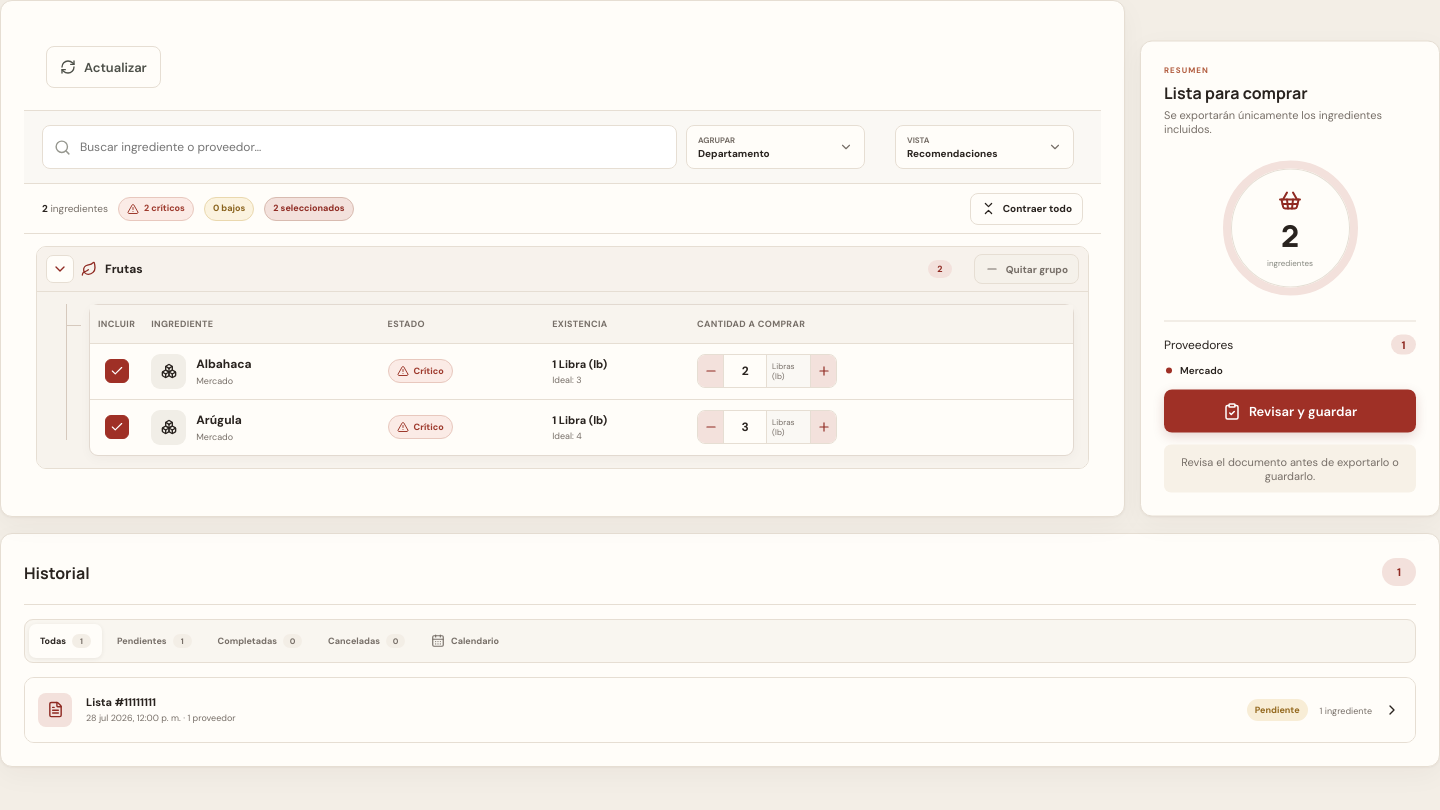
Test: ShoppingPage purchase receipt review › confirms cancellation of a pending order without receiving inventory
Click the button "Lista #11111111": point(55, 710) [25,678,1415,742]
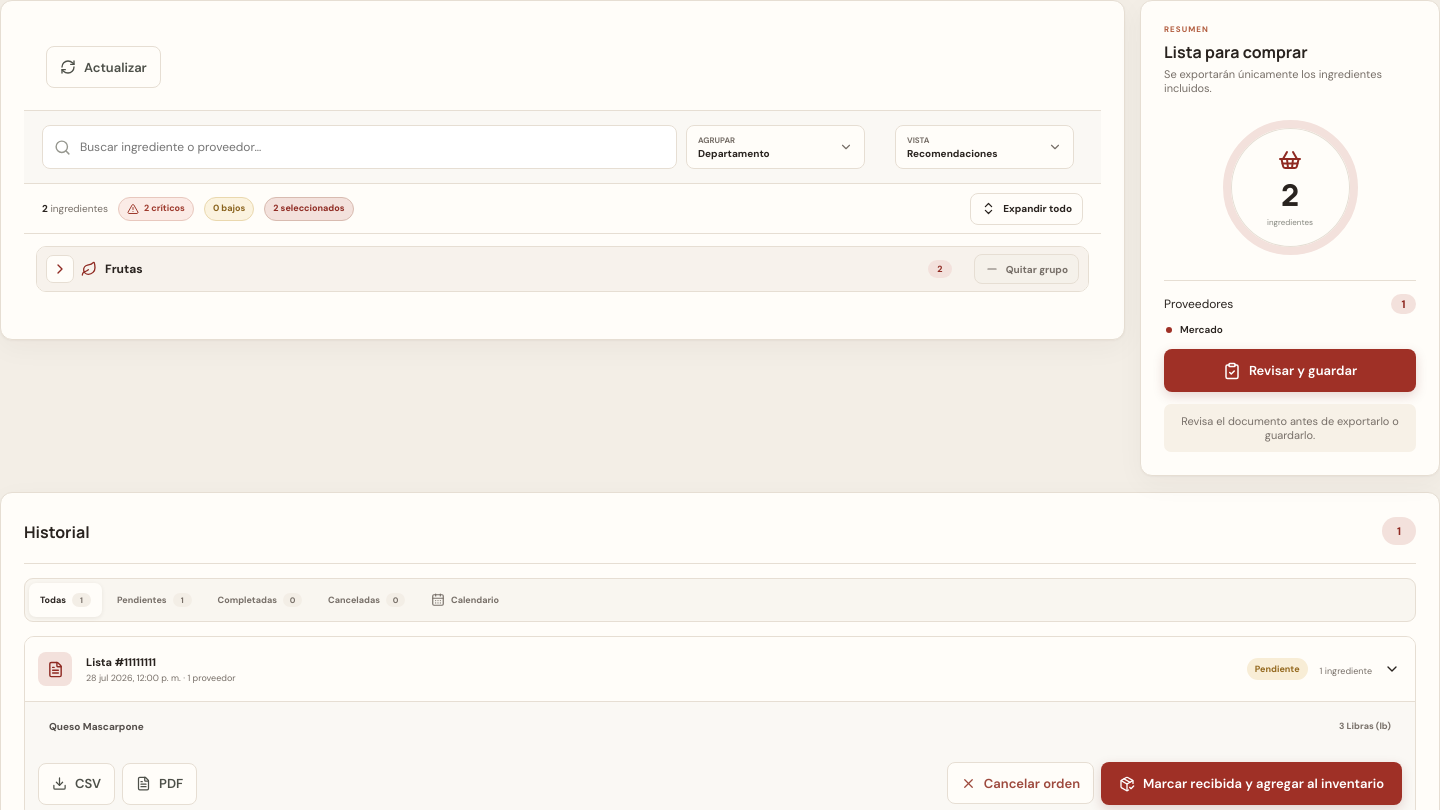
Click the button "Cancelar orden": point(1020, 783) [947,762,1094,804]
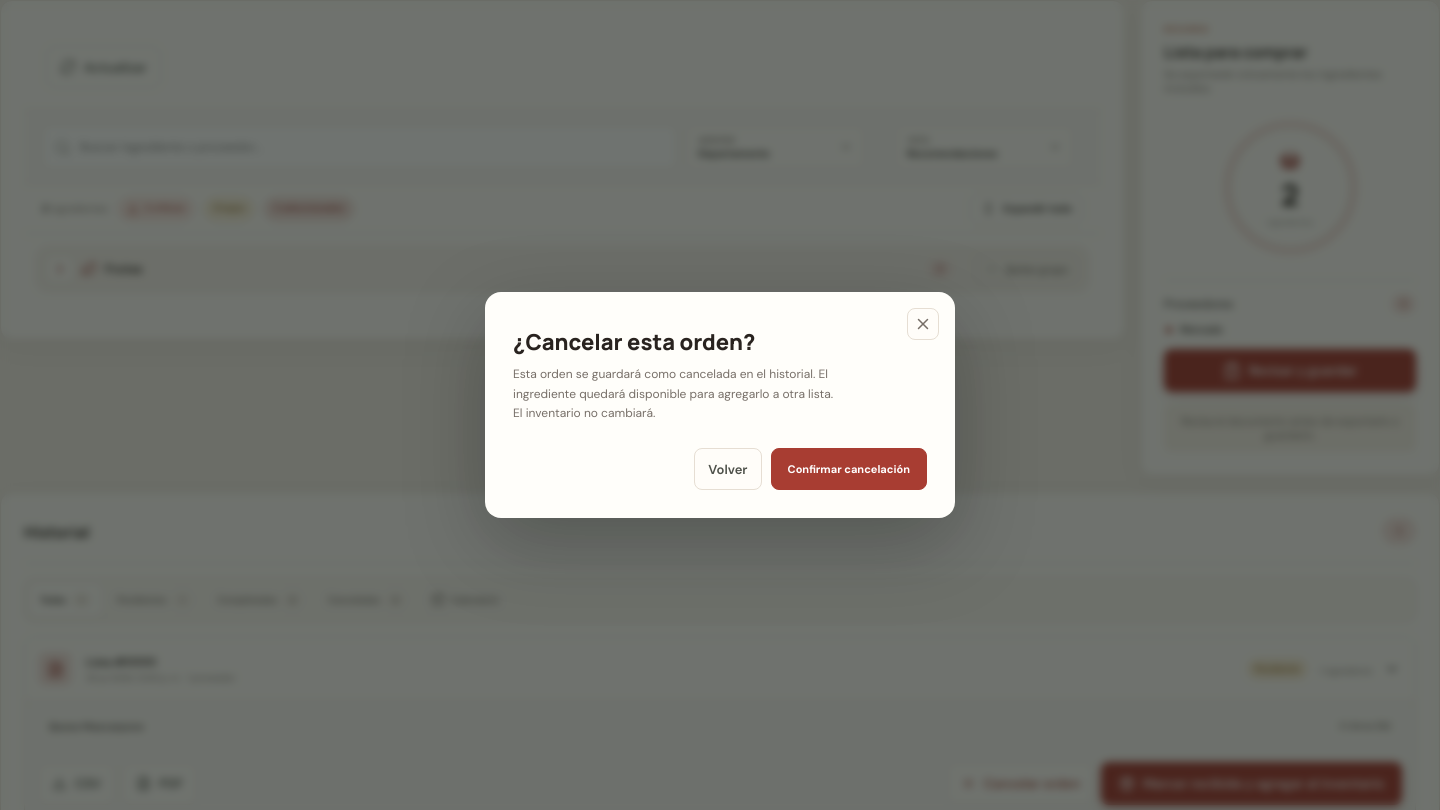
Now the dialog "¿Cancelar esta orden?" shows "El inventario no cambiará", box [513,405,655,421]
Click the button "Confirmar cancelación": point(849, 469) [770,448,927,490]
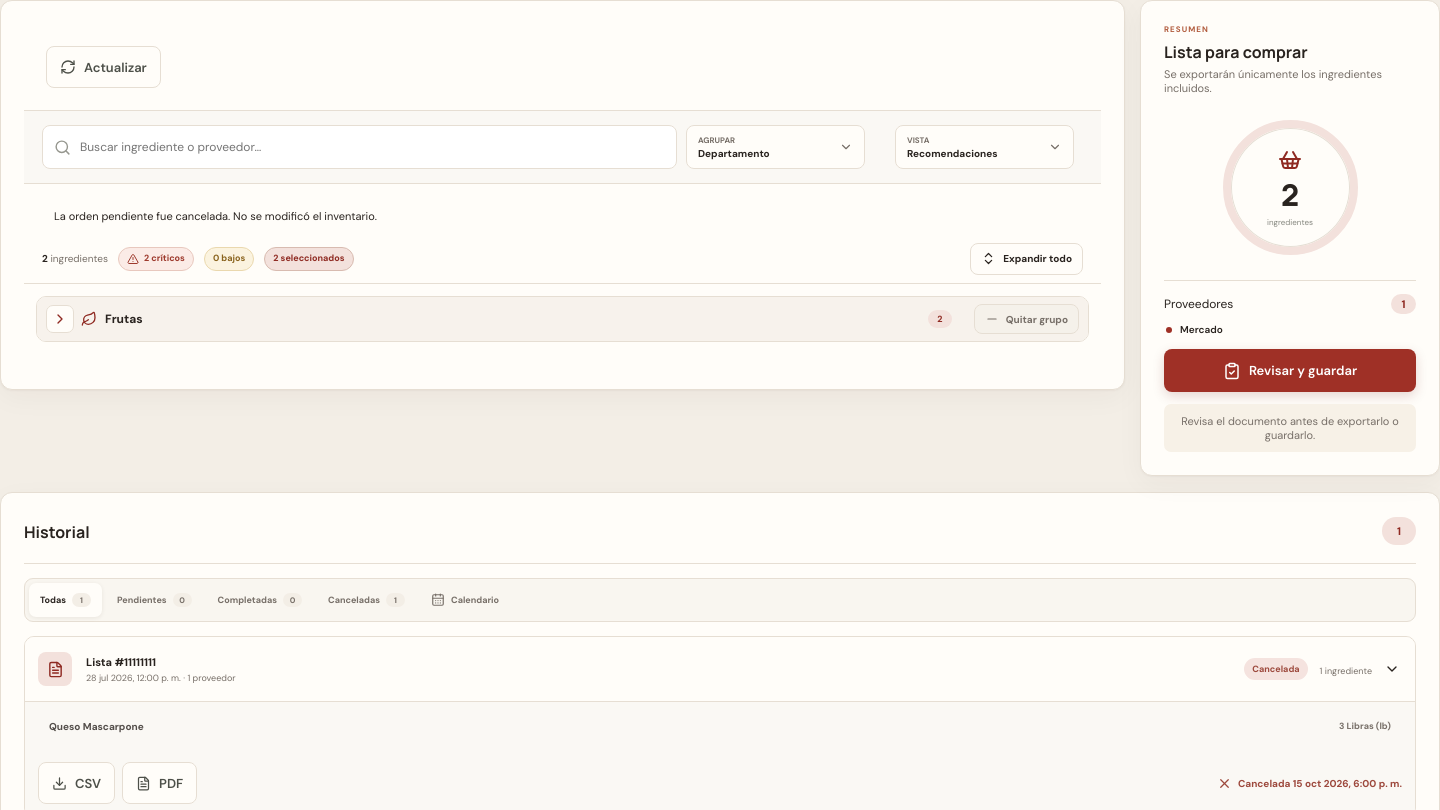
Expected: the text "2 seleccionados" is shown, [264,246,354,270]
Now the text "La orden pendiente fue cancelada. No se modificó el inventario." is shown, box [54,209,377,223]
Click the button "Revisar y guardar": point(1290, 370) [1164,349,1416,392]
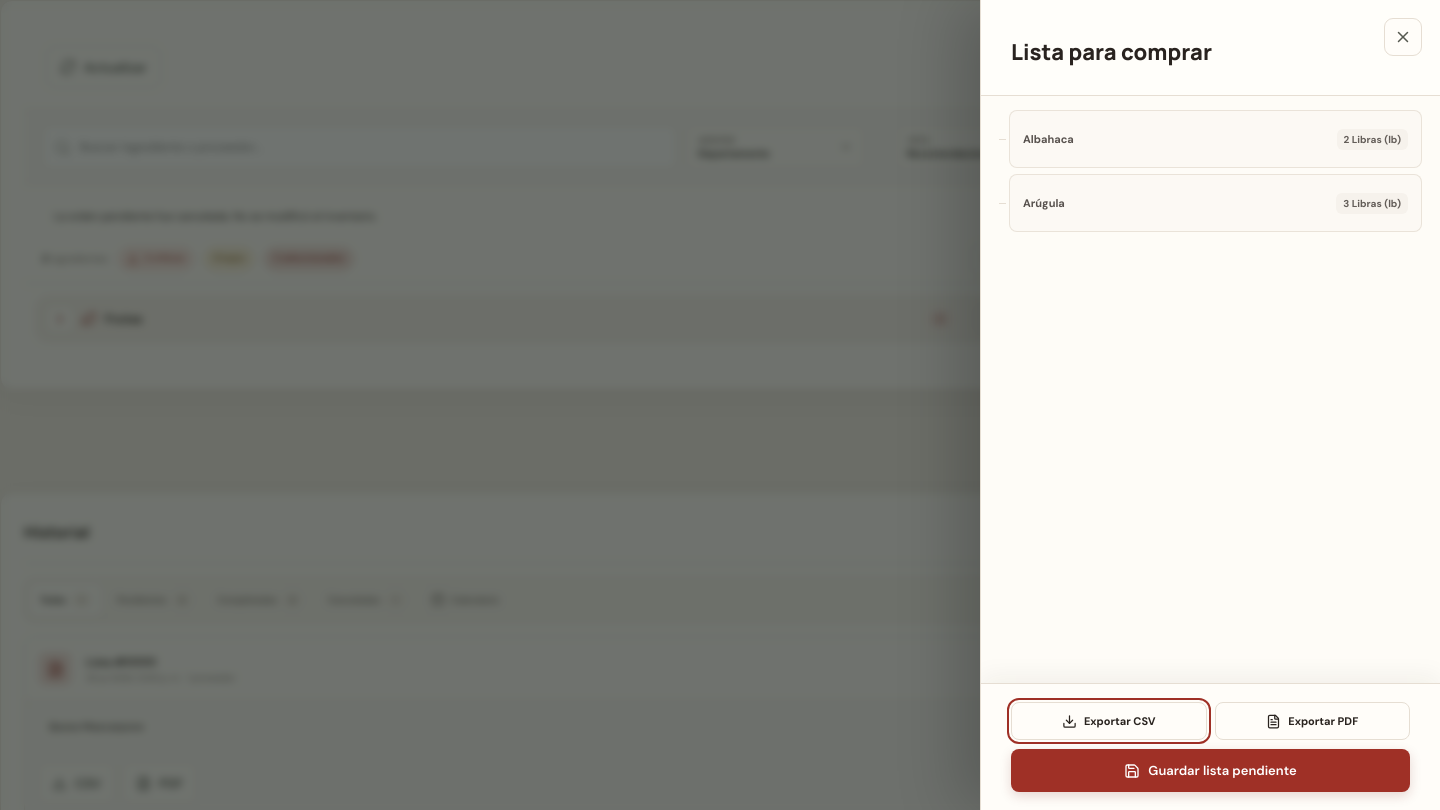
Expected: the dialog "Lista para comprar" does not show "Queso Mascarpone", [980,0,1439,809]
Now the dialog "Lista para comprar" shows "Albahaca", box [1023,132,1074,146]
Now the dialog "Lista para comprar" shows "Arúgula", box [1023,196,1065,210]
